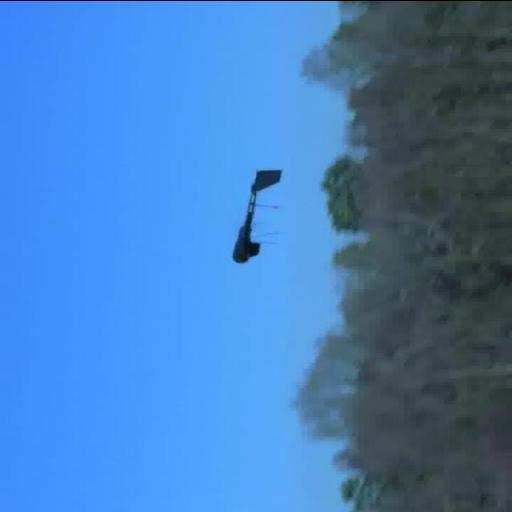uav: (210, 162, 292, 282)
